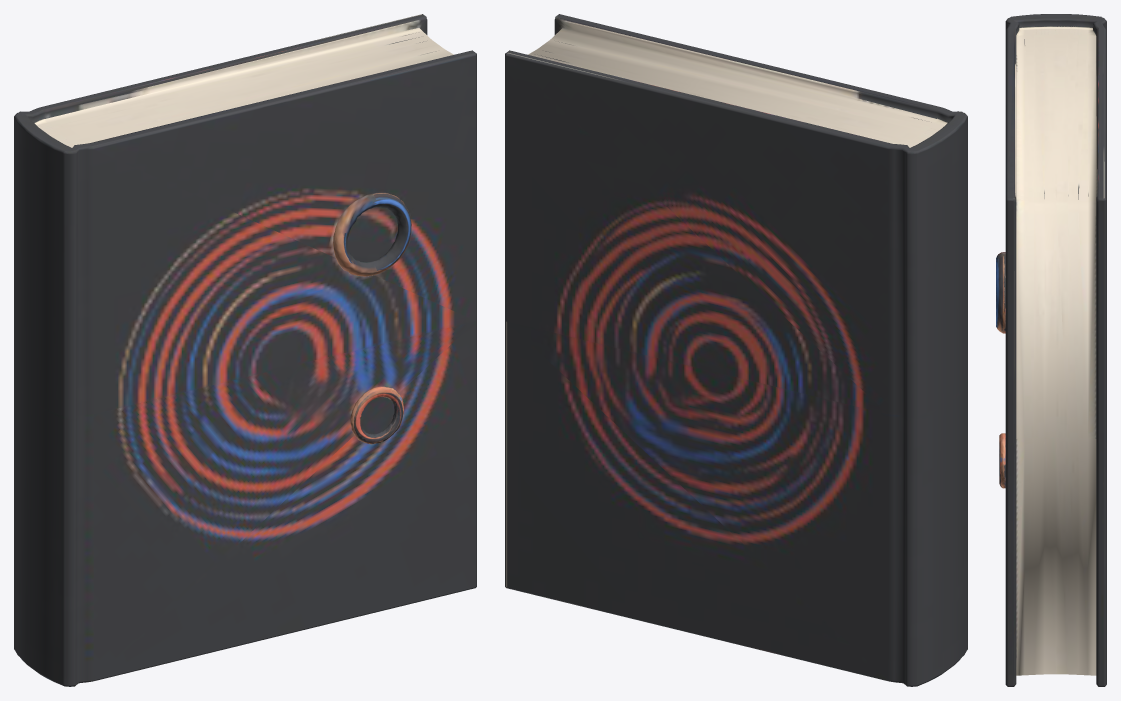
File: boom.glb
The picture shows the model from 3 angles, left to right: view 1: azimuth 30°, elevation 25°; view 2: azimuth 150°, elevation 25°; view 3: azimuth 270°, elevation 25°; orthographic projection. The views are drawn at different scales.
Parts seen in each view (by area): view 1: Boom; view 2: Boom; view 3: Boom.
Boxes of the visible parts, left/top/right/bottom form: Boom: left=14, top=14, right=476, bottom=686; Boom: left=505, top=14, right=967, bottom=686; Boom: left=996, top=14, right=1106, bottom=686.
Bounding box in the file's own units: 0.8145 × 0.998 × 0.2051.
Materials: 1 (1 with a texture image).
